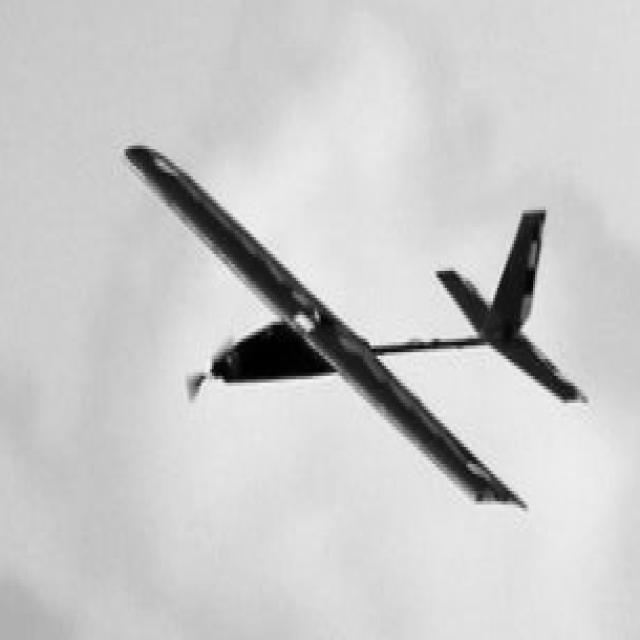iha: (62, 146, 576, 505)
